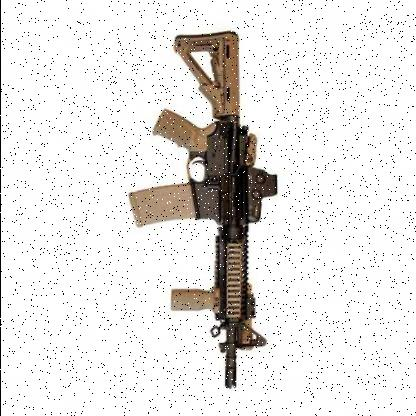rifle: (106, 20, 326, 396)
